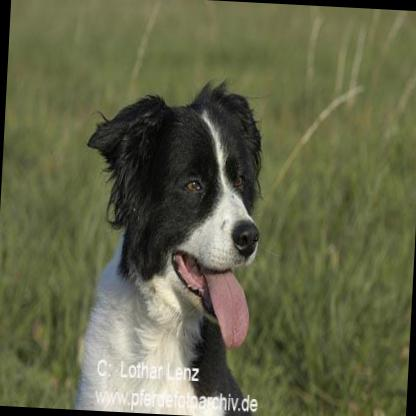collie: (70, 66, 270, 416)
